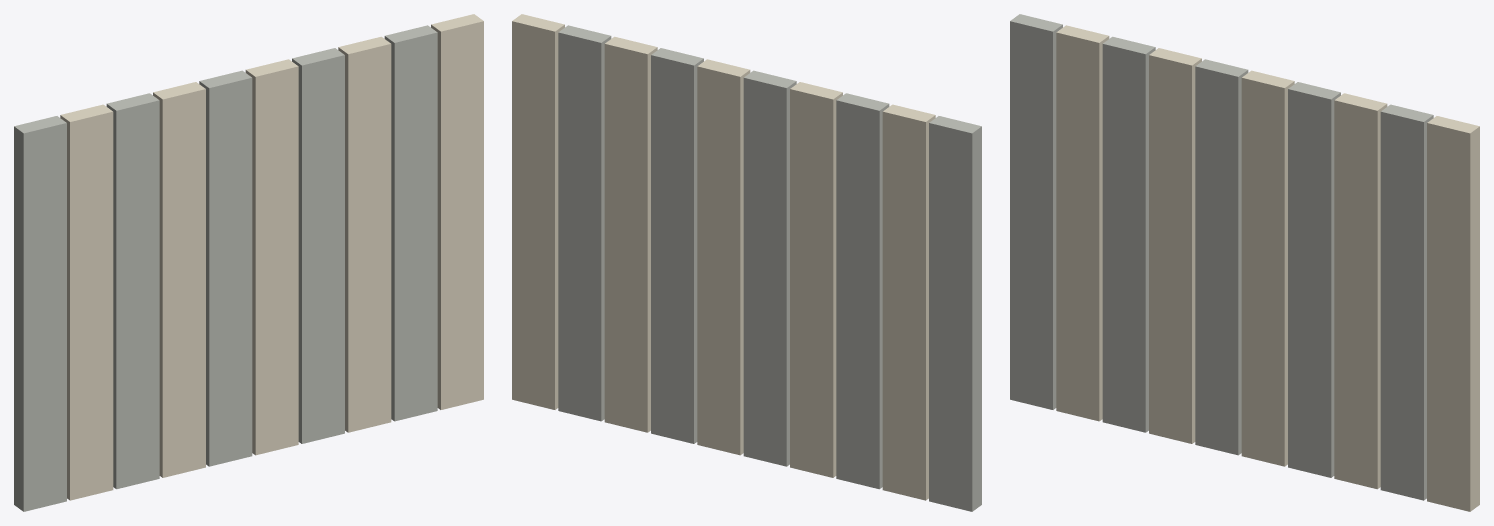
Rendered from curtain.glb.
The picture shows the model from 3 angles, left to right: view 1: azimuth 30°, elevation 25°; view 2: azimuth 150°, elevation 25°; view 3: azimuth 330°, elevation 25°; orthographic projection.
Parts seen in each view (by area): view 1: REF-L02-R01-curtain-part-1, REF-L02-R01-curtain-part-5, REF-L02-R01-curtain-part-6, REF-L02-R01-curtain-part-9, REF-L02-R01-curtain-part-2, REF-L02-R01-curtain-part-3, REF-L02-R01-curtain-part-8, REF-L02-R01-curtain-part-10, REF-L02-R01-curtain-part-4, REF-L02-R01-curtain-part-7; view 2: REF-L02-R01-curtain-part-1, REF-L02-R01-curtain-part-5, REF-L02-R01-curtain-part-6, REF-L02-R01-curtain-part-9, REF-L02-R01-curtain-part-2, REF-L02-R01-curtain-part-3, REF-L02-R01-curtain-part-8, REF-L02-R01-curtain-part-10, REF-L02-R01-curtain-part-4, REF-L02-R01-curtain-part-7; view 3: REF-L02-R01-curtain-part-10, REF-L02-R01-curtain-part-2, REF-L02-R01-curtain-part-5, REF-L02-R01-curtain-part-6, REF-L02-R01-curtain-part-9, REF-L02-R01-curtain-part-3, REF-L02-R01-curtain-part-8, REF-L02-R01-curtain-part-1, REF-L02-R01-curtain-part-4, REF-L02-R01-curtain-part-7.
Part boxes in pixels (x1,y1,x2,y2): REF-L02-R01-curtain-part-1: (14, 116, 66, 511); REF-L02-R01-curtain-part-5: (199, 70, 252, 466); REF-L02-R01-curtain-part-6: (245, 59, 298, 455); REF-L02-R01-curtain-part-9: (384, 25, 437, 421); REF-L02-R01-curtain-part-2: (60, 104, 113, 500); REF-L02-R01-curtain-part-3: (106, 93, 159, 489); REF-L02-R01-curtain-part-8: (338, 36, 391, 432); REF-L02-R01-curtain-part-10: (431, 14, 483, 409); REF-L02-R01-curtain-part-4: (153, 82, 205, 477); REF-L02-R01-curtain-part-7: (292, 48, 344, 443); REF-L02-R01-curtain-part-1: (929, 116, 981, 511); REF-L02-R01-curtain-part-5: (743, 70, 796, 466); REF-L02-R01-curtain-part-6: (697, 59, 750, 455); REF-L02-R01-curtain-part-9: (558, 25, 611, 421); REF-L02-R01-curtain-part-2: (882, 104, 935, 500); REF-L02-R01-curtain-part-3: (836, 93, 889, 489); REF-L02-R01-curtain-part-8: (604, 36, 657, 432); REF-L02-R01-curtain-part-10: (512, 14, 564, 409); REF-L02-R01-curtain-part-4: (790, 82, 842, 477); REF-L02-R01-curtain-part-7: (651, 48, 703, 443); REF-L02-R01-curtain-part-10: (1427, 116, 1479, 511); REF-L02-R01-curtain-part-2: (1056, 25, 1109, 421); REF-L02-R01-curtain-part-5: (1195, 59, 1248, 455); REF-L02-R01-curtain-part-6: (1241, 70, 1294, 466); REF-L02-R01-curtain-part-9: (1380, 104, 1433, 500); REF-L02-R01-curtain-part-3: (1102, 36, 1155, 432); REF-L02-R01-curtain-part-8: (1334, 93, 1387, 489); REF-L02-R01-curtain-part-1: (1010, 14, 1062, 409); REF-L02-R01-curtain-part-4: (1149, 48, 1201, 443); REF-L02-R01-curtain-part-7: (1288, 82, 1340, 477).
Bounding box in the file's own units: 0.8143 × 0.64 × 0.03.
